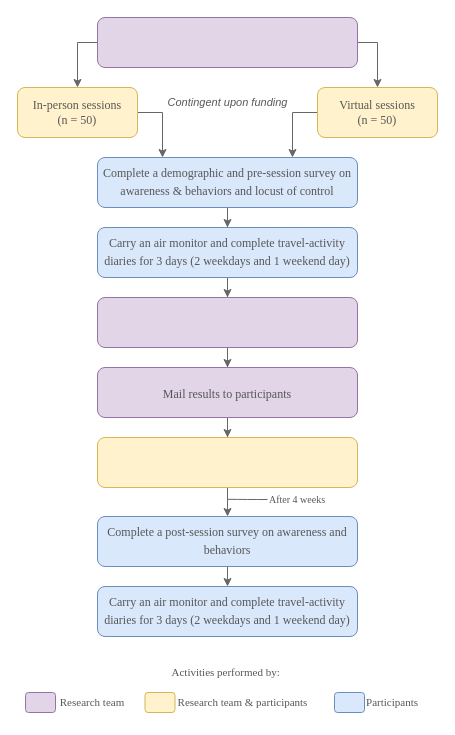
Image size: 455x735. Some labels were removed from this diagram. The shapes that lost their labels are listed below. From the top down, each one's centre as x and y in pixels, then its label:
the point at 227,42: Participant recruitment* ( Aug 2024–April 2025)
the point at 227,322: Perform data visualization and preliminary data analysis
the point at 227,462: Engage participants in data interpretation (phone or zoom call)
